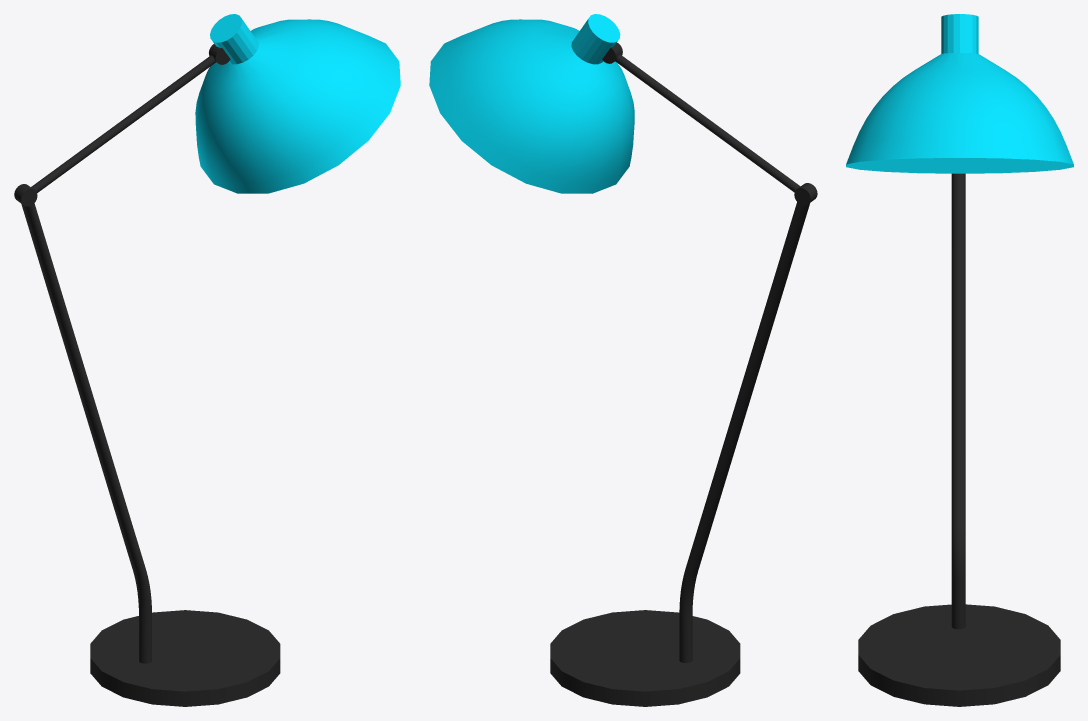
The model's file is bc6txJTwfJj.glb.
3 renders of one model, left to right at view 1: azimuth 30°, elevation 25°; view 2: azimuth 150°, elevation 25°; view 3: azimuth 270°, elevation 25°, orthographic. The views are drawn at different scales.
Parts seen in each view (by area): view 1: Cylinder006, Cylinder001; view 2: Cylinder006, Cylinder001; view 3: Cylinder001, Cylinder006.
Part boxes in pixels (x1,y1,x2,y2): Cylinder006: (195,14,400,193); Cylinder001: (14,44,280,706); Cylinder006: (429,14,634,193); Cylinder001: (550,42,817,706); Cylinder001: (858,173,1060,706); Cylinder006: (846,14,1073,173).
Bounding box in the file's own units: 0.606 × 1 × 0.3047.
